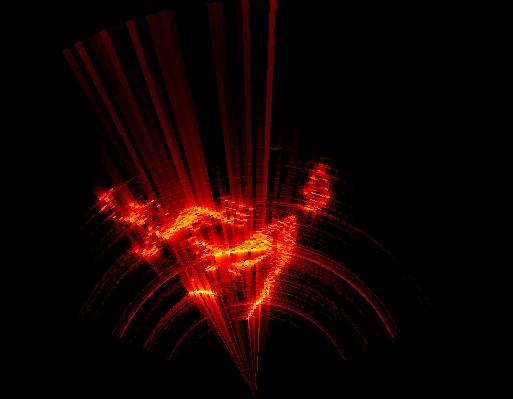shipwreck: (101, 164, 328, 325)
